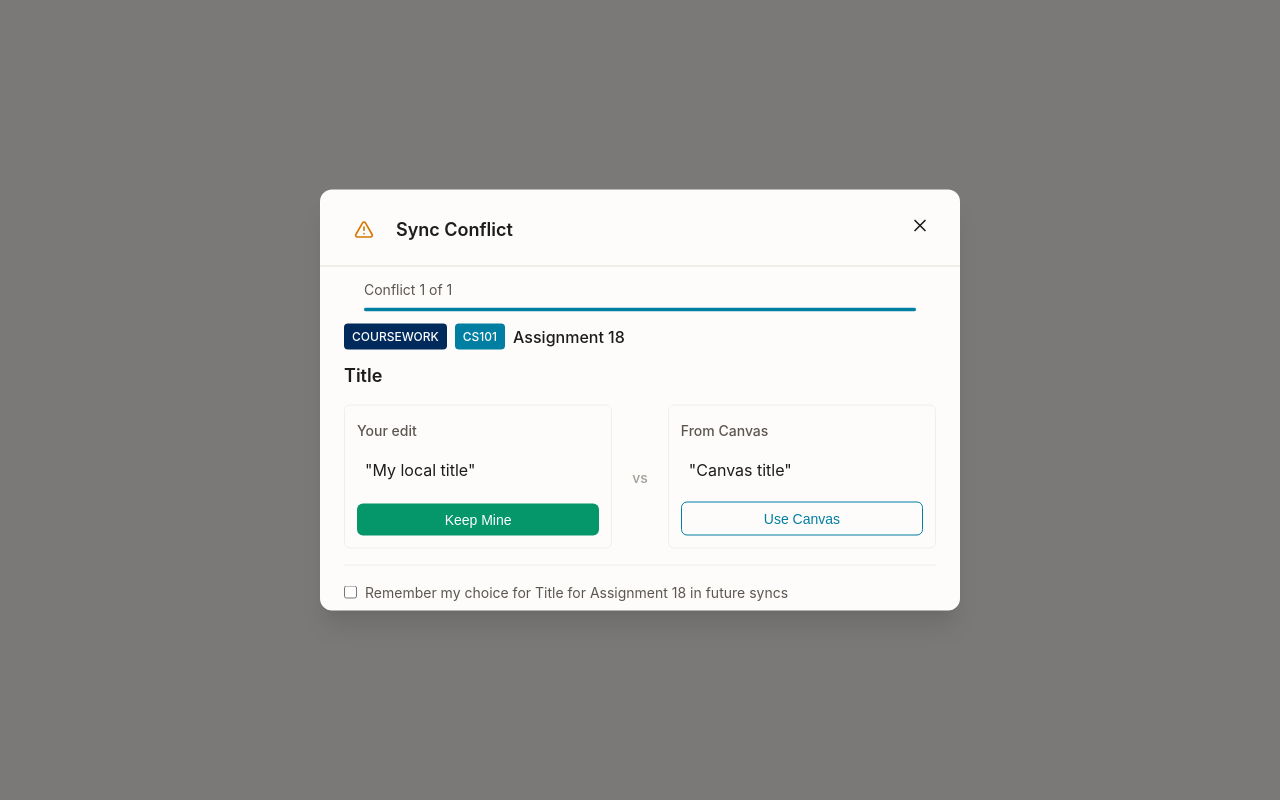
Scenario: SyncConflictModal — remember choice / expiration › checking "remember my choice" reveals the expiration selector + apply-to-all
Expected: the text "Remember until:" is not shown
Click the checkbox at (350, 592), box [344,586,357,598]
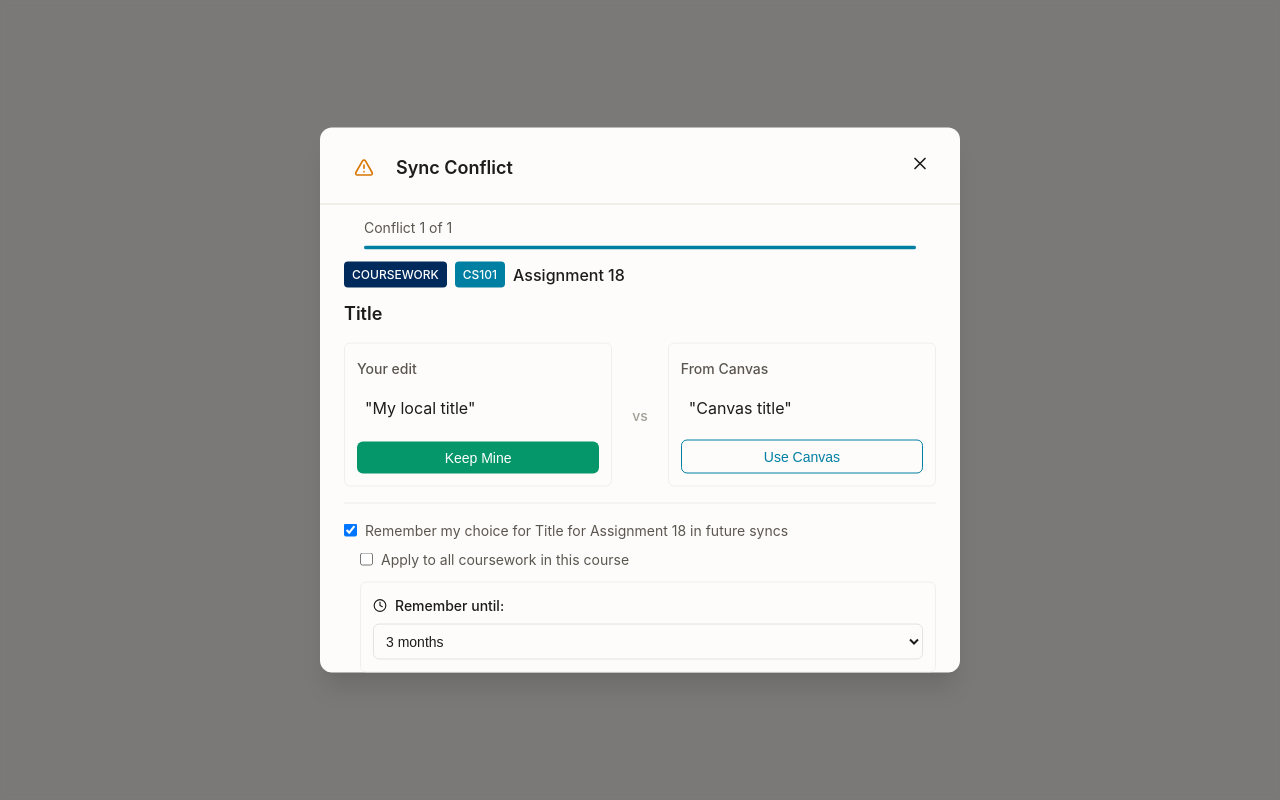
Now the text "Remember until:" is shown, box [395,594,504,616]
Now the text "Apply to all coursework in this course" is shown, box [381,548,629,570]
